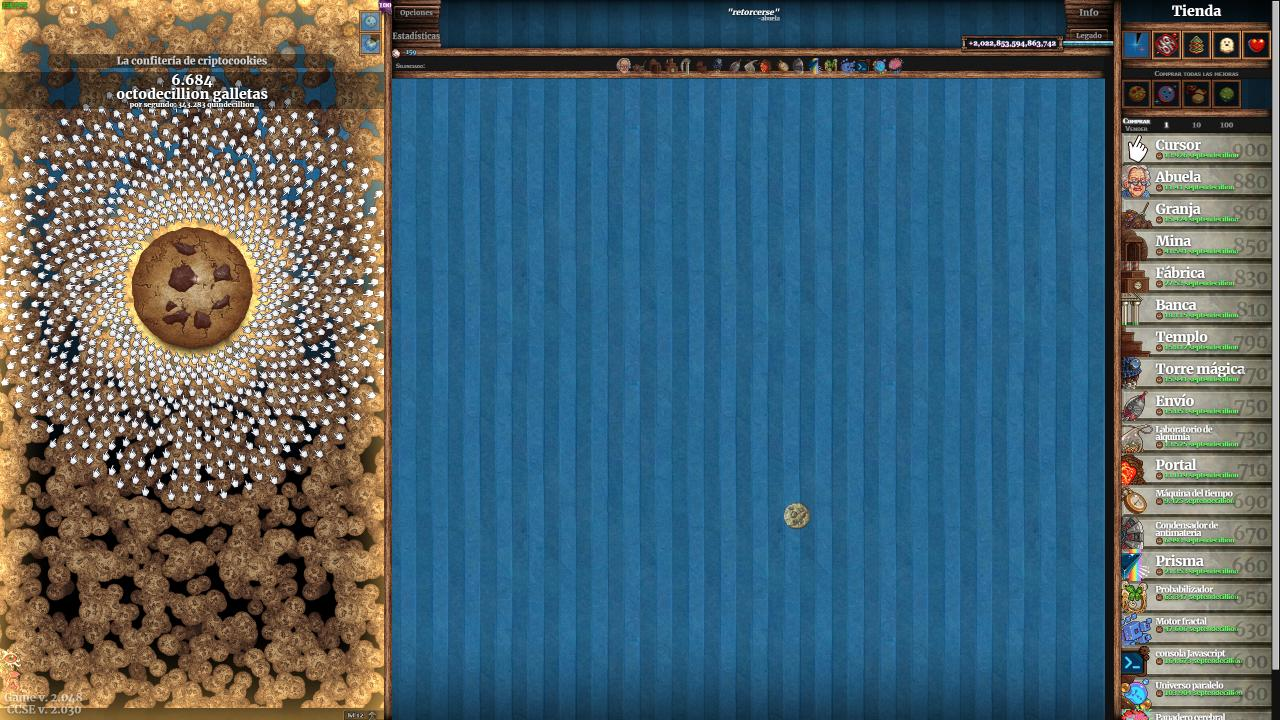GoldenCookie: (782, 500, 812, 531)
